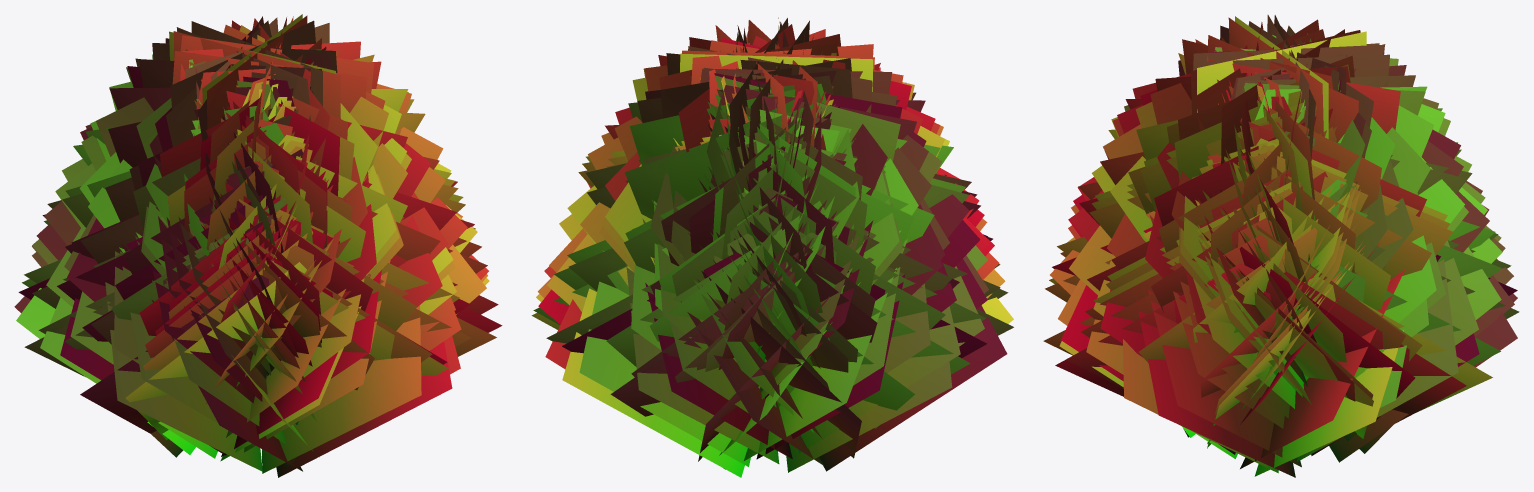
File: URP_P4_Tree_5_LOD_1.fbx
3 views of the same model, side by side, from view 1: azimuth 30°, elevation 25°; view 2: azimuth 150°, elevation 25°; view 3: azimuth 270°, elevation 25° (orthographic).
Visible parts, largest first — view 1: Tree_5_LOD_1; view 2: Tree_5_LOD_1; view 3: Tree_5_LOD_1.
Boxes of the visible parts, x1,y1,x2,y2 form: Tree_5_LOD_1: (14,14,502,477); Tree_5_LOD_1: (531,17,1013,477); Tree_5_LOD_1: (1043,15,1519,477).
Bounding box in the file's own units: 209 × 189 × 209.
